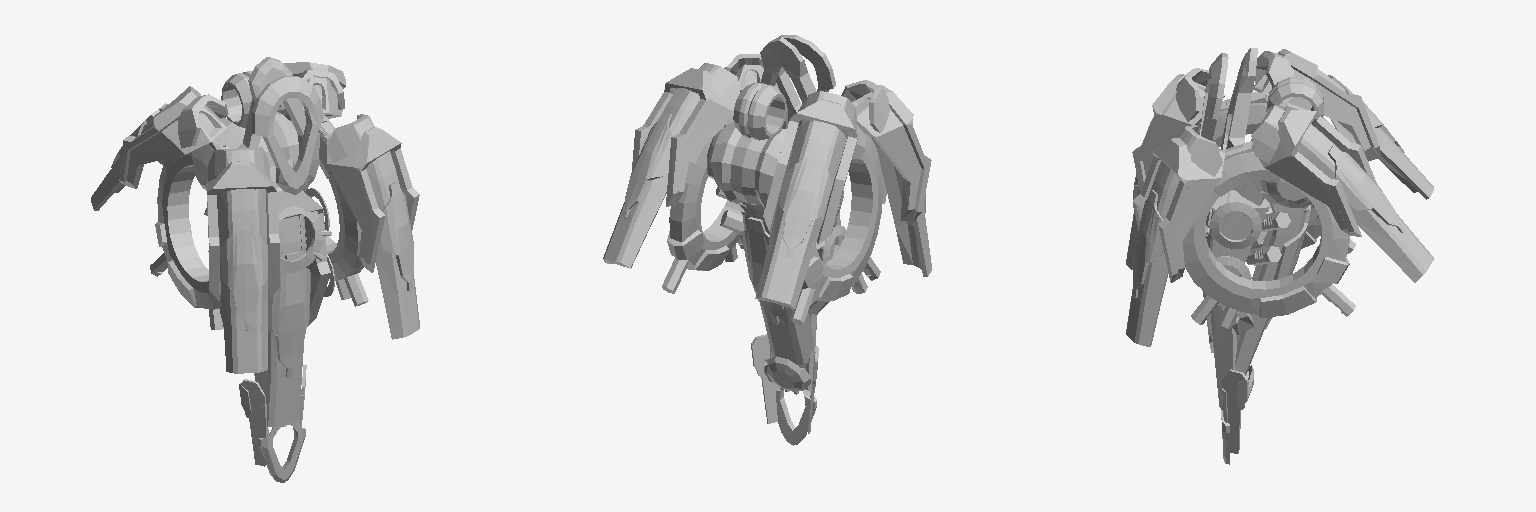
File: drone.obj
3 renders of one model, left to right at view 1: azimuth 30°, elevation 25°; view 2: azimuth 150°, elevation 25°; view 3: azimuth 270°, elevation 25°, orthographic.
Visible parts, largest first — view 1: Drone_v9_Cybertech; view 2: Drone_v9_Cybertech; view 3: Drone_v9_Cybertech.
Part boxes in pixels (x1,y1,x2,y2): Drone_v9_Cybertech: (91, 57, 419, 482); Drone_v9_Cybertech: (603, 35, 931, 445); Drone_v9_Cybertech: (1126, 48, 1433, 464).
Size of the model in its own units: 2.83 by 5.35 by 3.59.